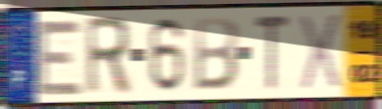6: (146, 15, 187, 95)
B: (191, 15, 241, 93)
E: (34, 17, 85, 97)
R: (84, 14, 133, 98)
T: (252, 14, 292, 94)
X: (298, 10, 343, 92)
